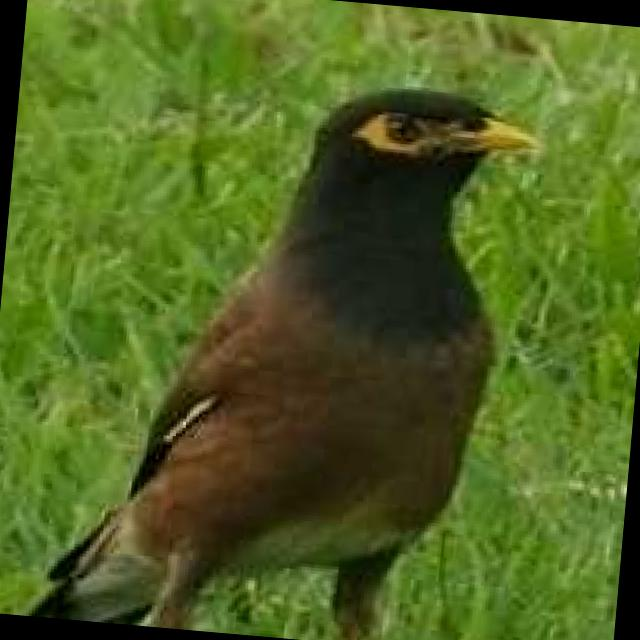bird: (4, 51, 545, 640)
